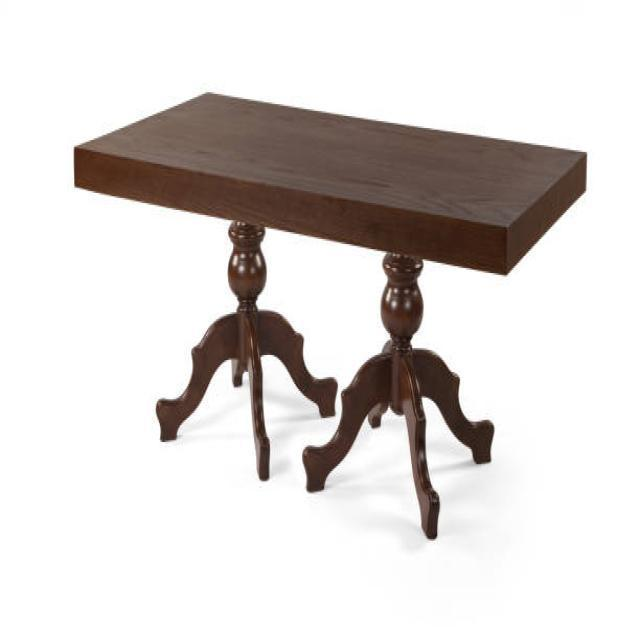table: (72, 87, 587, 540)
